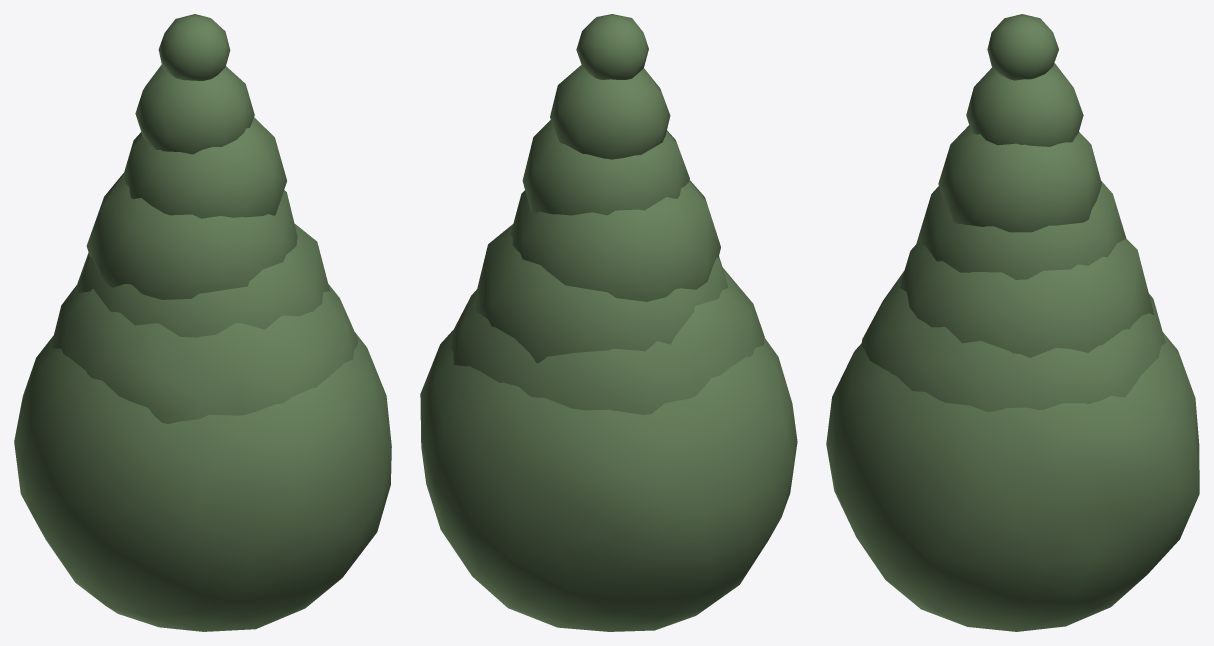
Rendered from NPR_07_2011__MOD__VegetationElements__Topiary__BoxCone__Var-01__.glb.
3 views of the same model, side by side, from view 1: azimuth 30°, elevation 25°; view 2: azimuth 150°, elevation 25°; view 3: azimuth 270°, elevation 25° (orthographic). The views are drawn at different scales.
Parts seen in each view (by area): view 1: NPR_07_2011__MOD__VegetationElements__Topiary__BoxCone__Var-; view 2: NPR_07_2011__MOD__VegetationElements__Topiary__BoxCone__Var-; view 3: NPR_07_2011__MOD__VegetationElements__Topiary__BoxCone__Var-.
Boxes of the visible parts, box(x1,y1,x2,y2) form: NPR_07_2011__MOD__VegetationElements__Topiary__BoxCone__Var-: box(14, 14, 391, 631); NPR_07_2011__MOD__VegetationElements__Topiary__BoxCone__Var-: box(420, 14, 797, 631); NPR_07_2011__MOD__VegetationElements__Topiary__BoxCone__Var-: box(826, 14, 1199, 631).
Bounding box in the file's own units: 0.8286 × 1.46 × 0.834.
